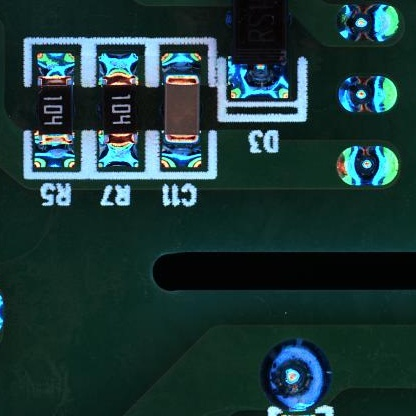spot: (257, 337, 331, 410), (338, 1, 400, 43), (336, 148, 399, 186), (338, 76, 399, 114)
